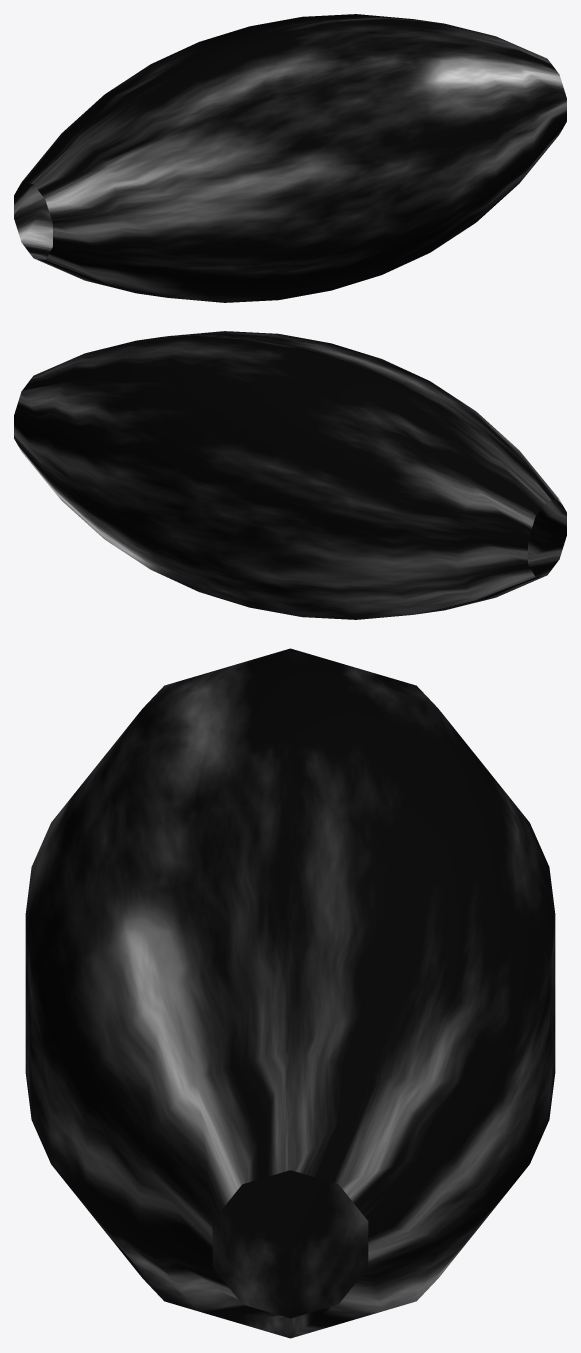
Rendered from warp_bubble.FBX.
3 renders of one model, top to bottom at view 1: azimuth 30°, elevation 25°; view 2: azimuth 150°, elevation 25°; view 3: azimuth 270°, elevation 25°, orthographic. The views are drawn at different scales.
Parts seen in each view (by area): view 1: bubble; view 2: bubble; view 3: bubble.
Boxes of the visible parts, <box> form: bubble: <box>14,14,566,302</box>; bubble: <box>14,331,566,619</box>; bubble: <box>25,648,555,1338</box>.
Size of the model in its own units: 147 by 68.77 by 65.4.
1 material, 1 textured.
